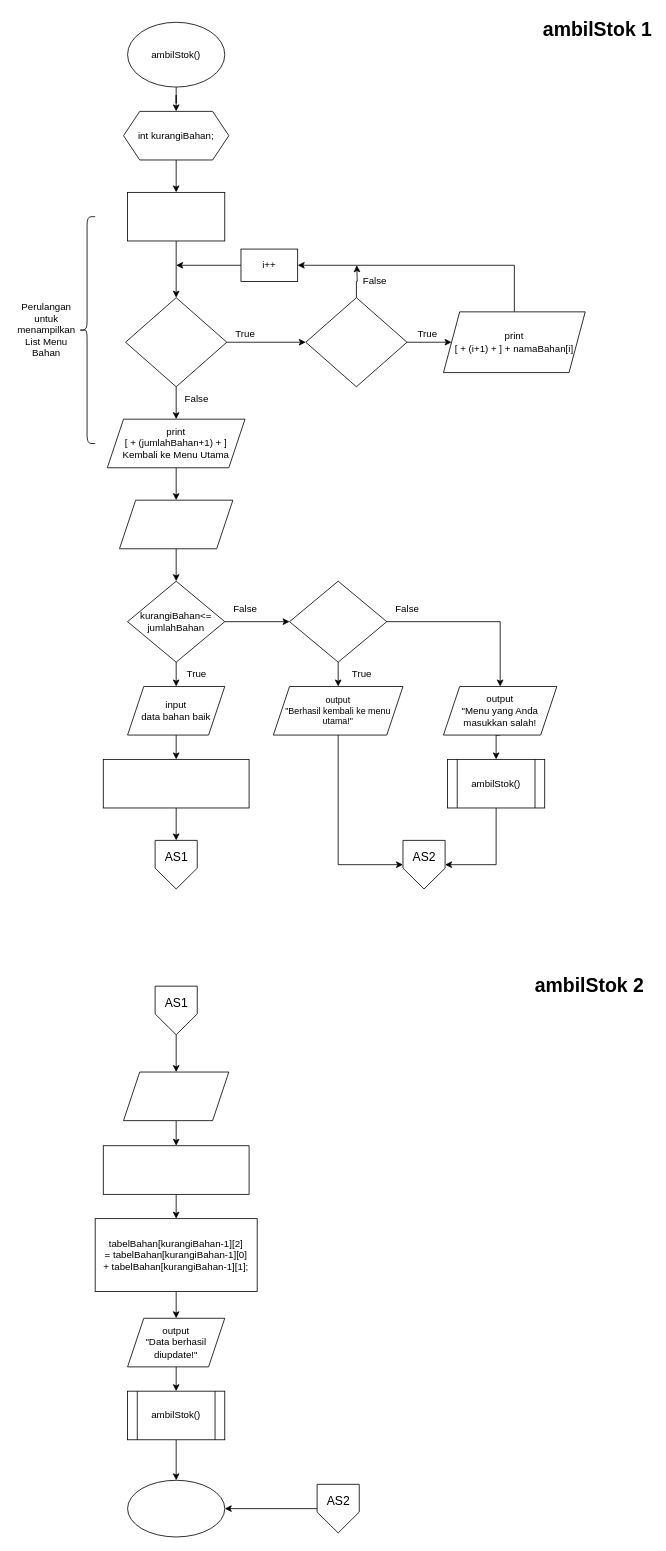
Some shapes in this 666 by 1551 pixel diagram are drawn without their labels. Each missing label, with the box of its shape:
i < namaBahan.length: (125, 297, 227, 387)
input data bahan busuk: (123, 1071, 229, 1121)
input kurangiBahan: (119, 499, 233, 549)
int i = 0: (127, 192, 225, 241)
kurangiBahan == (jumlahBahan+1): (289, 580, 387, 662)
namaBahan[i] != null: (305, 297, 407, 387)
return: (127, 1479, 225, 1537)
tabelBahan[kurangiBahan-1][0] -= sc.nextInt();: (102, 759, 249, 808)
tabelBahan[kurangiBahan-1][1] -= sc.nextInt();: (102, 1145, 249, 1194)
